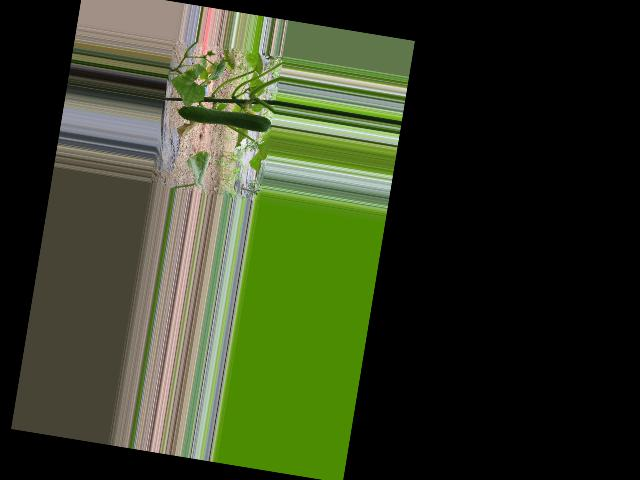cucumber: (174, 101, 271, 134)
